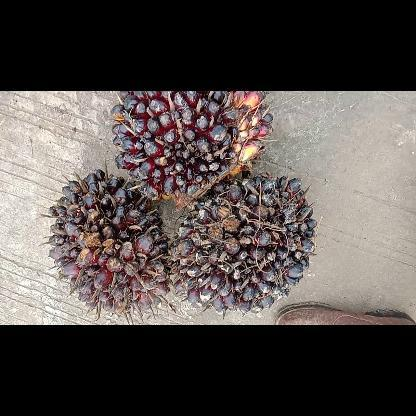TBS mentah: (168, 174, 320, 312), (105, 91, 273, 207), (41, 168, 171, 316)
